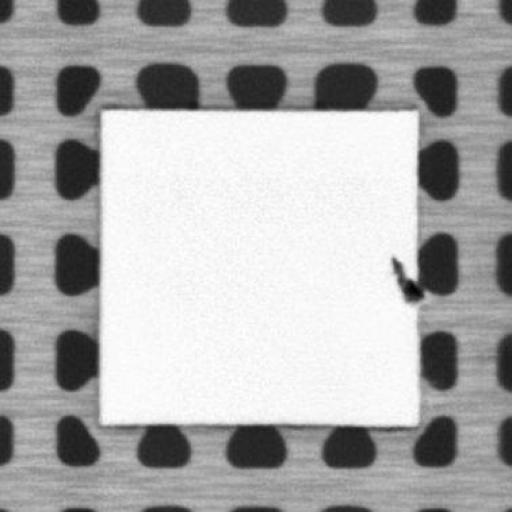DIE_INK: (387, 258, 424, 305)
